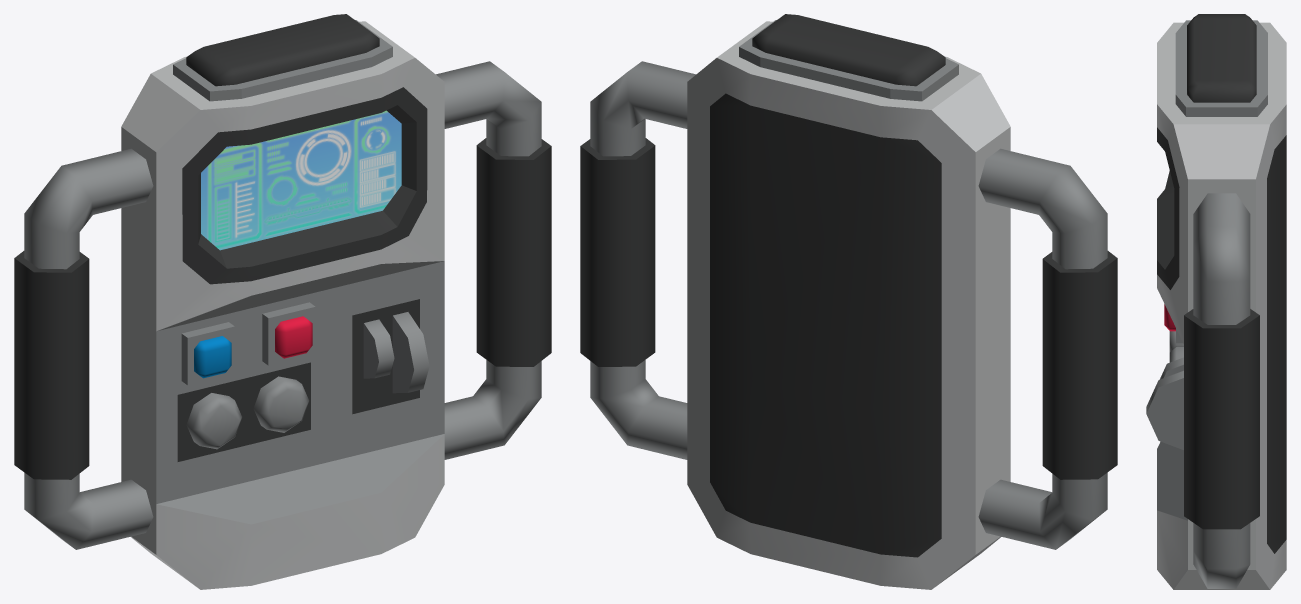
File: Analyzer_003.fbx
The picture shows the model from 3 angles, left to right: view 1: azimuth 30°, elevation 25°; view 2: azimuth 150°, elevation 25°; view 3: azimuth 270°, elevation 25°; orthographic projection. The views are drawn at different scales.
Parts seen in each view (by area): view 1: Analyzer_003; view 2: Analyzer_003; view 3: Analyzer_003.
Part boxes in pixels (x1,y1,x2,y2): Analyzer_003: (14, 14, 551, 589); Analyzer_003: (580, 14, 1117, 589); Analyzer_003: (1146, 14, 1286, 589).
Size of the model in its own units: 40.68 by 9.84 by 37.88.
